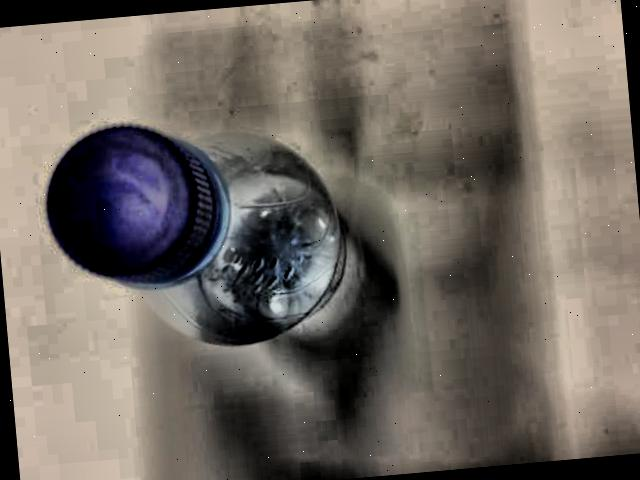Bottles: (35, 74, 418, 386)
